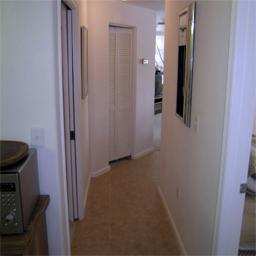Puerta: (110, 27, 131, 158)
